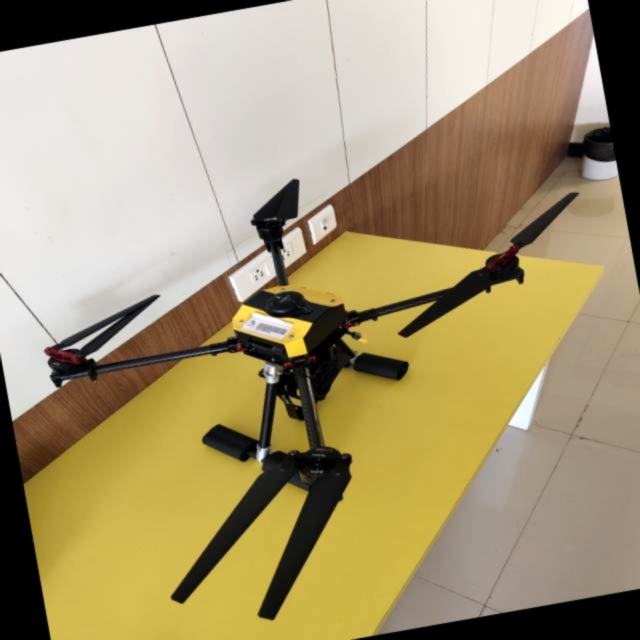quadcopter: (16, 124, 640, 640)
